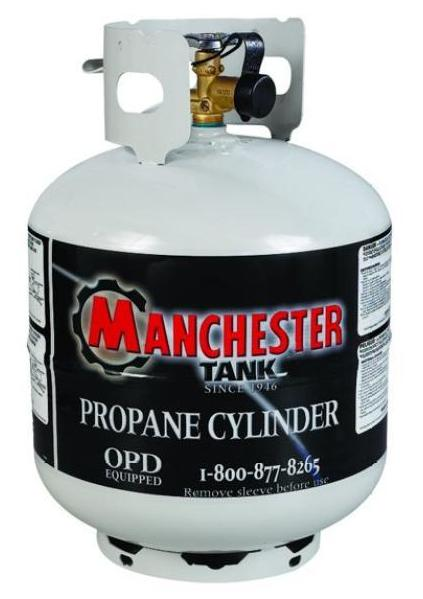cylinder: (0, 1, 423, 599)
